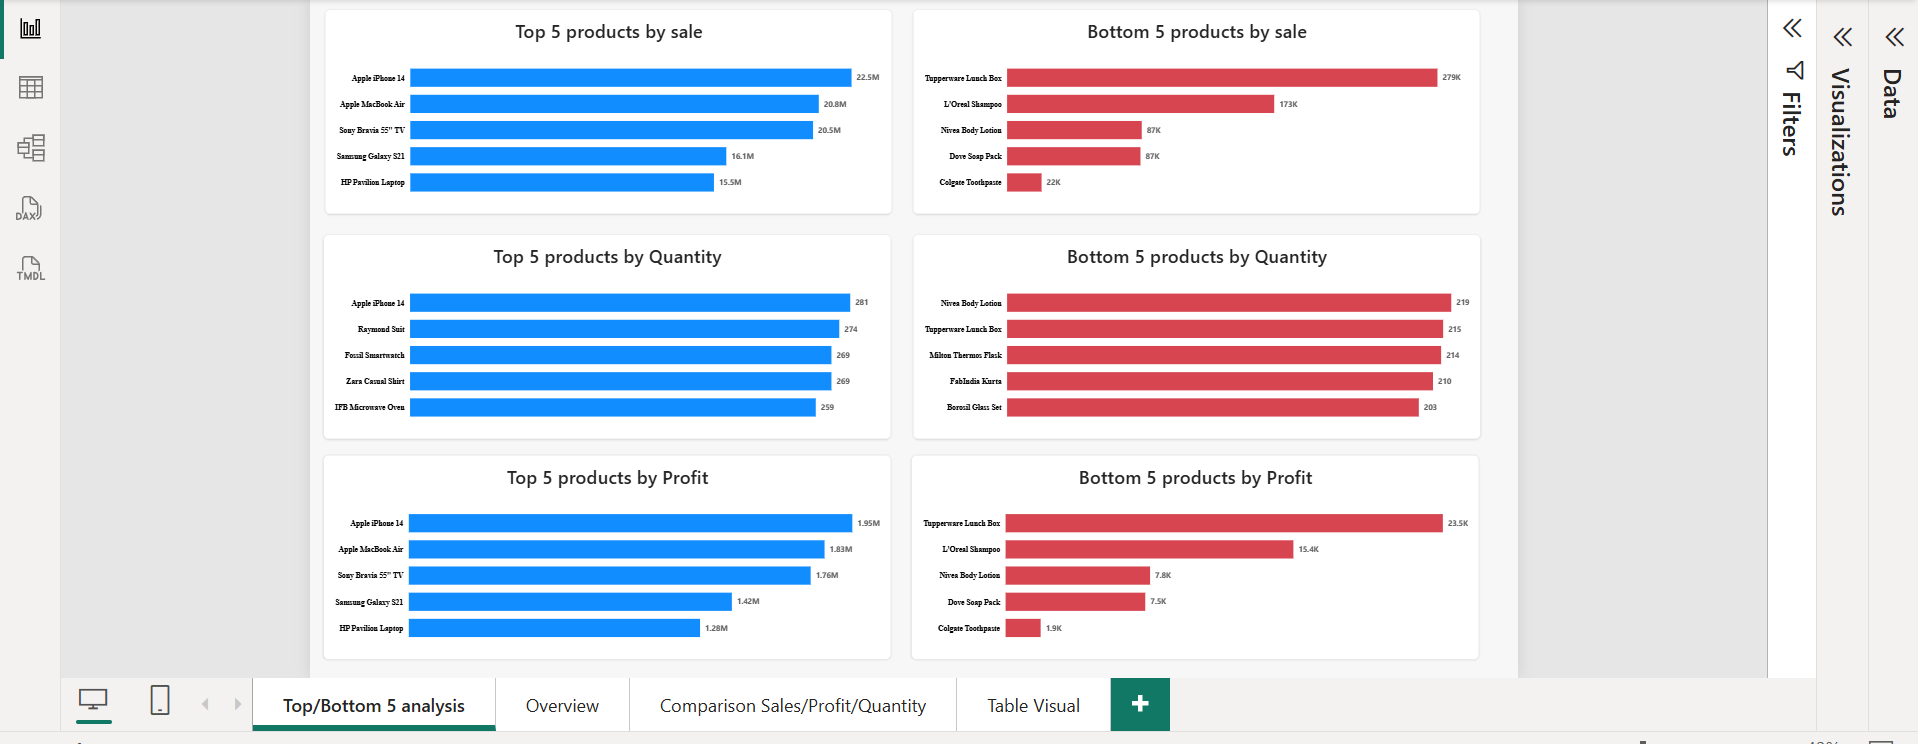

The page's visual inventory and layout, read from the dashboard file:
{"tool":"powerbi","page":{"name":"Top/Bottom 5 analysis","canvas":[1920,1080],"ordinal":0},"visuals":[{"type":"barChart","title":"Top 5 products by sale","fields":{"Category":["Dim Product.Product Name"],"Y":["Sum(Fact Table.Total Sales )"]},"box":[23.3,16.3,902.3,325],"z":0},{"type":"barChart","title":"Bottom 5 products by sale","fields":{"Category":["Dim Product.Product Name"],"Y":["Sum(Fact Table.Total Sales )"]},"box":[958.1,16.3,902.3,325],"z":1000},{"type":"barChart","title":"Top 5 products by Quantity","fields":{"Category":["Dim Product.Product Name"],"Y":["Sum(Fact Table.Units Sold)"]},"box":[22.5,373.6,902.5,325],"z":2000},{"type":"barChart","title":"Bottom 5 products by Quantity","fields":{"Category":["Dim Product.Product Name"],"Y":["Sum(Fact Table.Units Sold)"]},"box":[960,373.6,902.5,325],"z":3000},{"type":"barChart","title":"Top 5 products by Profit","fields":{"Category":["Dim Product.Product Name"],"Y":["Sum(Fact Table.Profit)"]},"box":[22.5,725,902.5,325],"z":4000},{"type":"barChart","title":"Bottom 5 products by Profit","fields":{"Category":["Dim Product.Product Name"],"Y":["Sum(Fact Table.Profit)"]},"box":[957.5,725,902.5,325],"z":5000}]}

Visuals, with their boxes on the page's 1920x1080 design canvas (x1, y1, x2, y2). These are canvas units, not pixel positions in the 1918x744 screenshot, which may show the page scaled, cropped or inside an application window:
"Top 5 products by sale" barChart: 23 16 926 341
"Bottom 5 products by sale" barChart: 958 16 1860 341
"Top 5 products by Quantity" barChart: 22 374 925 699
"Bottom 5 products by Quantity" barChart: 960 374 1862 699
"Top 5 products by Profit" barChart: 22 725 925 1050
"Bottom 5 products by Profit" barChart: 958 725 1860 1050
